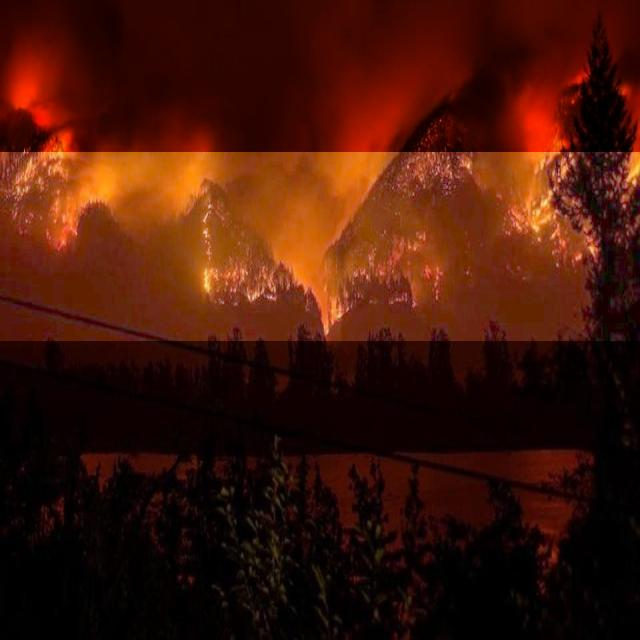Fire: (0, 86, 640, 341)
Smoke: (0, 0, 640, 152)
